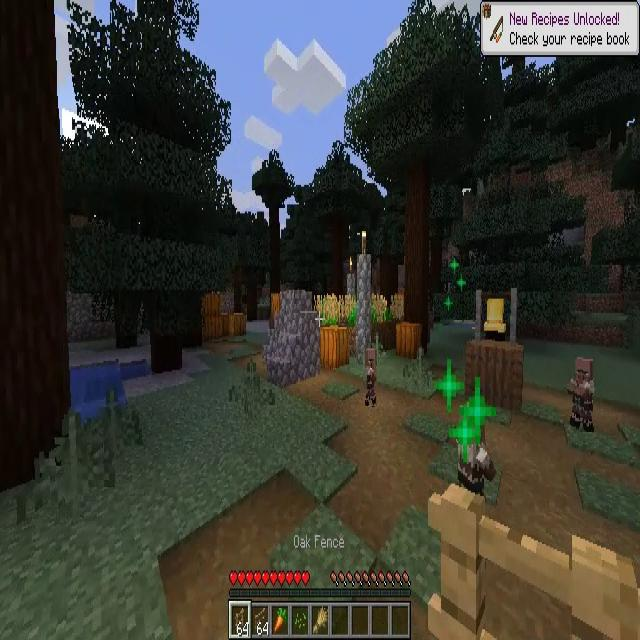people: (456, 421, 496, 494), (567, 356, 593, 432), (363, 350, 377, 406)
